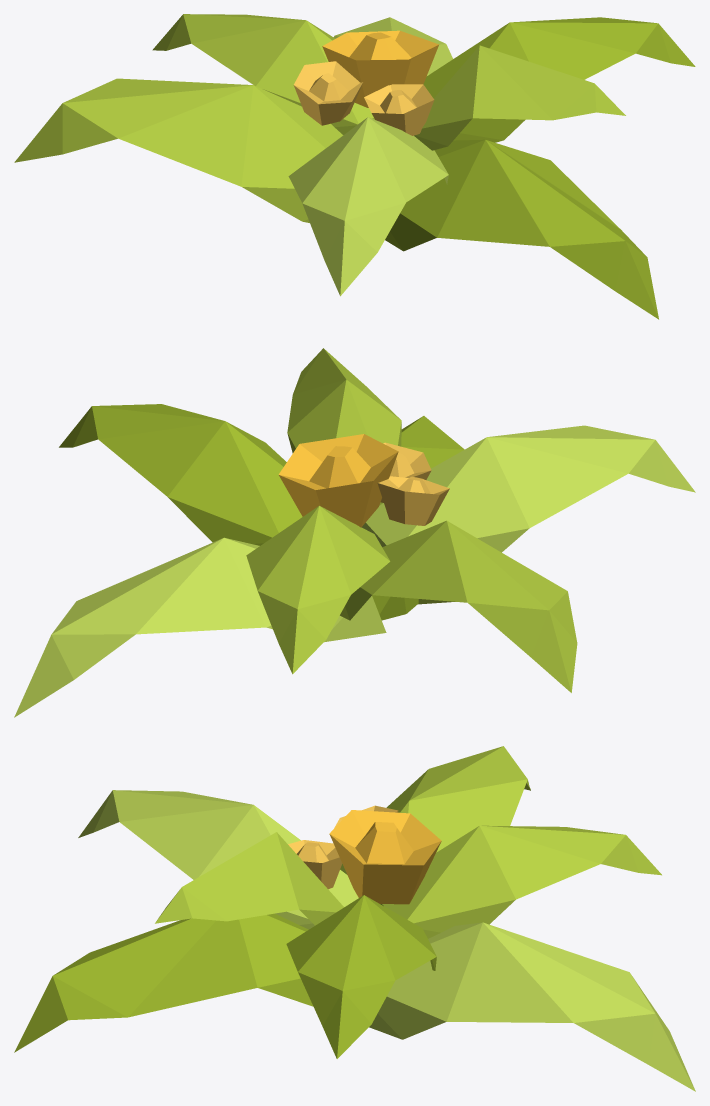
File: plant_3.fbx
The picture shows the model from 3 angles, top to bottom: view 1: azimuth 30°, elevation 25°; view 2: azimuth 150°, elevation 25°; view 3: azimuth 270°, elevation 25°; orthographic projection. The views are drawn at different scales.
Visible parts, largest first — view 1: plant_3; view 2: plant_3; view 3: plant_3.
Part boxes in pixels (x1=…): plant_3: x1=14, y1=14, x2=695, y2=319; plant_3: x1=14, y1=348, x2=695, y2=717; plant_3: x1=14, y1=746, x2=695, y2=1091.
Bounding box in the file's own units: 259 × 84.65 × 256.
